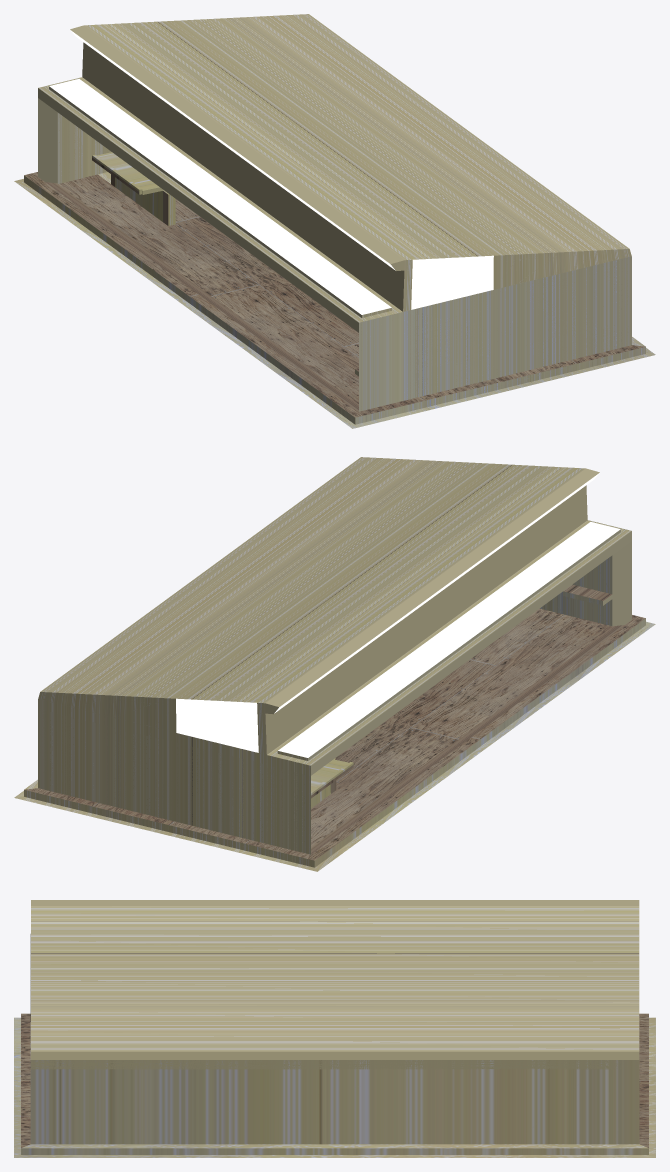
File: station.glb
3 renders of one model, top to bottom at view 1: azimuth 30°, elevation 25°; view 2: azimuth 150°, elevation 25°; view 3: azimuth 270°, elevation 25°, orthographic. The views are drawn at different scales.
Visible parts, largest first — view 1: Plane; view 2: Plane; view 3: Plane.
Part boxes in pixels (left/top/right/bottom): Plane: left=14, top=14, right=655, bottom=428; Plane: left=14, top=457, right=655, bottom=871; Plane: left=14, top=900, right=655, bottom=1157.
Size of the model in its own units: 8.36 by 3.88 by 16.16.
7 materials, 2 textured.
